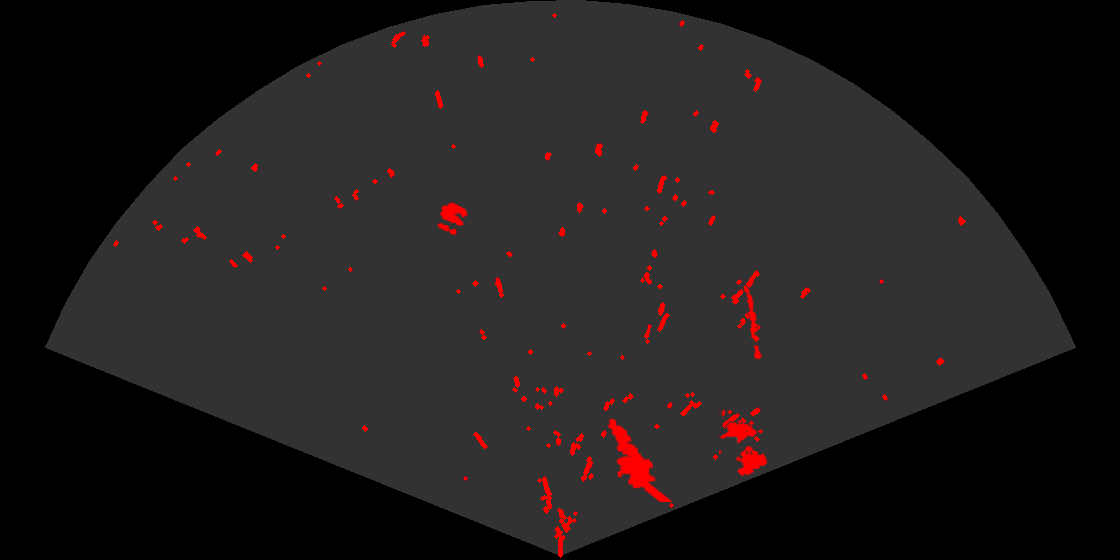ball: (435, 201, 470, 237)
cage: (719, 410, 769, 478)
chain: (742, 283, 764, 361)
frogman: (606, 417, 673, 502)
